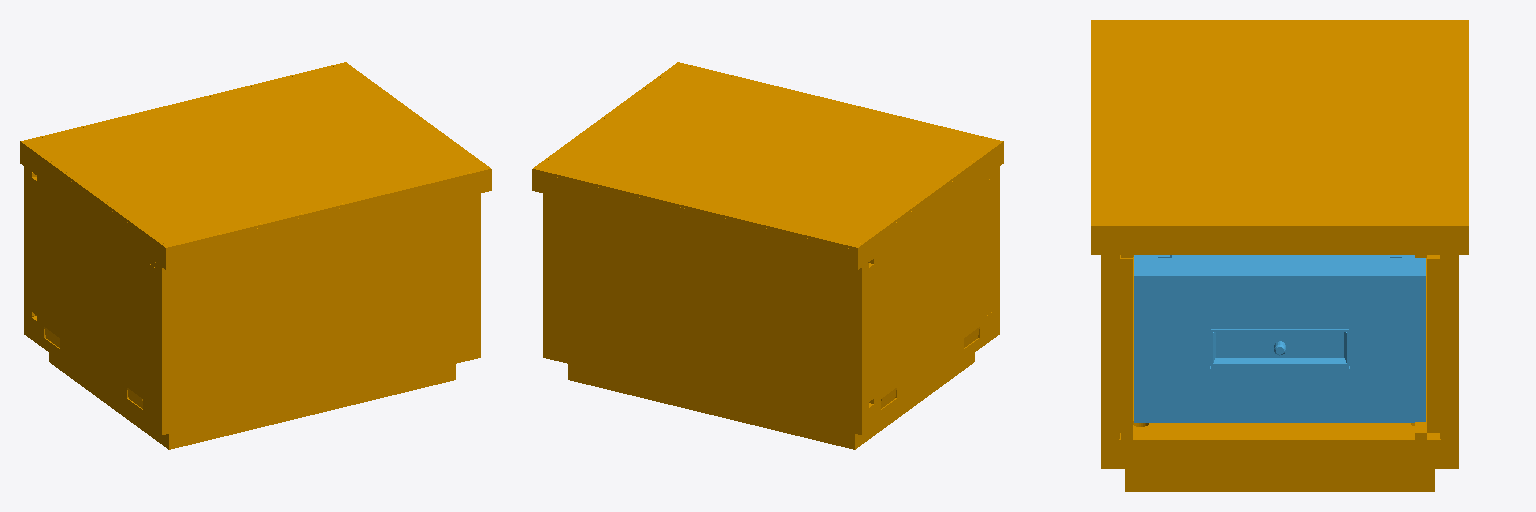
URDF robot description (walnut_drawer):
<?xml version="1.0"?>
<!-- Generated by scripts/make_drawer_asset.py from robot.urdf.
     Geometry baked +90 deg about z so the slide axis is +X, matching the
     convention every offset in drawer_open_place/action_config.json assumes.
     handle_xpos is derived from the tray geometry, not hand-placed.
     Collision shapes are a CoACD decomposition of the same baked meshes. -->
<robot name="walnut_drawer">
  <link name="outer_box">
    <inertial><origin xyz="0.002500 -0.000000 0.077500" rpy="0 0 0"/>
      <mass value="2.3"/>
      <inertia ixx="0.011523958" ixy="0" ixz="0" iyy="0.016109583" iyz="0" izz="0.018423958"/></inertial>
    <visual><origin xyz="0 0 0" rpy="0 0 0"/>
      <geometry><mesh filename="meshes/plinth_base_baked.obj"/></geometry></visual>
    <collision><origin xyz="0 0 0" rpy="0 0 0"/>
      <geometry><mesh filename="meshes/plinth_base_acd.obj"/></geometry></collision>
  </link>

  <link name="inner_box">
    <inertial><origin xyz="0.010858 0.000296 0.042372" rpy="0 0 0"/>
      <mass value="1.1"/>
      <inertia ixx="0.002758494" ixy="0" ixz="0" iyy="0.005598213" iyz="0" izz="0.006774465"/></inertial>
    <visual><origin xyz="0 0 0" rpy="0 0 0"/>
      <geometry><mesh filename="meshes/drawer_bottom_panel_baked.obj"/></geometry></visual>
    <collision><origin xyz="0 0 0" rpy="0 0 0"/>
      <geometry><mesh filename="meshes/drawer_bottom_panel_acd.obj"/></geometry></collision>
    <collision><origin xyz="0.11586 0.00030 0.07410" rpy="0 0 0"/>
      <geometry><box size="0.01600 0.14650 0.02945"/></geometry></collision>
    <collision><origin xyz="0.11586 0.00030 0.01665" rpy="0 0 0"/>
      <geometry><box size="0.01600 0.14650 0.04145"/></geometry></collision>
    <collision><origin xyz="0.11586 0.05442 0.04837" rpy="0 0 0"/>
      <geometry><box size="0.01600 0.03825 0.02200"/></geometry></collision>
    <collision><origin xyz="0.11586 -0.05383 0.04837" rpy="0 0 0"/>
      <geometry><box size="0.01600 0.03825 0.02200"/></geometry></collision>
    <collision><origin xyz="0.11774 0.00030 0.04837" rpy="0 0 0"/>
      <geometry><box size="0.00880 0.07000 0.02200"/></geometry></collision>
  </link>

  <link name="handle_xpos"/>

  <joint name="slide_rails" type="prismatic">
    <origin xyz="-0.003358 -0.000296 0.036178" rpy="0 0 0"/>
    <parent link="outer_box"/><child link="inner_box"/>
    <axis xyz="-1 0 0"/>
    <limit lower="-0.13" upper="0.0" effort="25.0" velocity="1.0" acceleration="5.0"/>
  </joint>

  <joint name="fixed_handle" type="fixed">
    <origin xyz="0.111338 0.000296 0.048372" rpy="1.5707963268 -1.5707963268 0"/>
    <parent link="inner_box"/><child link="handle_xpos"/>
  </joint>
</robot>

--- Render facts (derived) ---
3 views of the same robot in one strip: view 1: azimuth 30°, elevation 25°; view 2: azimuth 150°, elevation 25°; view 3: azimuth 270°, elevation 25° (orthographic).
Robot: walnut_drawer — 3 links, 2 joints (1 prismatic, 1 fixed); root link outer_box; default pose: all joints at 0.
Links seen in each view (by area): view 1: outer_box; view 2: outer_box; view 3: outer_box, inner_box.
Boxes of the visible links, box(x1,y1,x2,y2) form: outer_box: box(20, 62, 491, 449); outer_box: box(532, 62, 1003, 449); outer_box: box(1091, 20, 1468, 491); inner_box: box(1134, 255, 1425, 422).
Size in the robot's own frame: 0.245 by 0.19 by 0.155 metres.
Meshes: 2 distinct files referenced, 2 mesh visuals loaded (2 OBJ).
